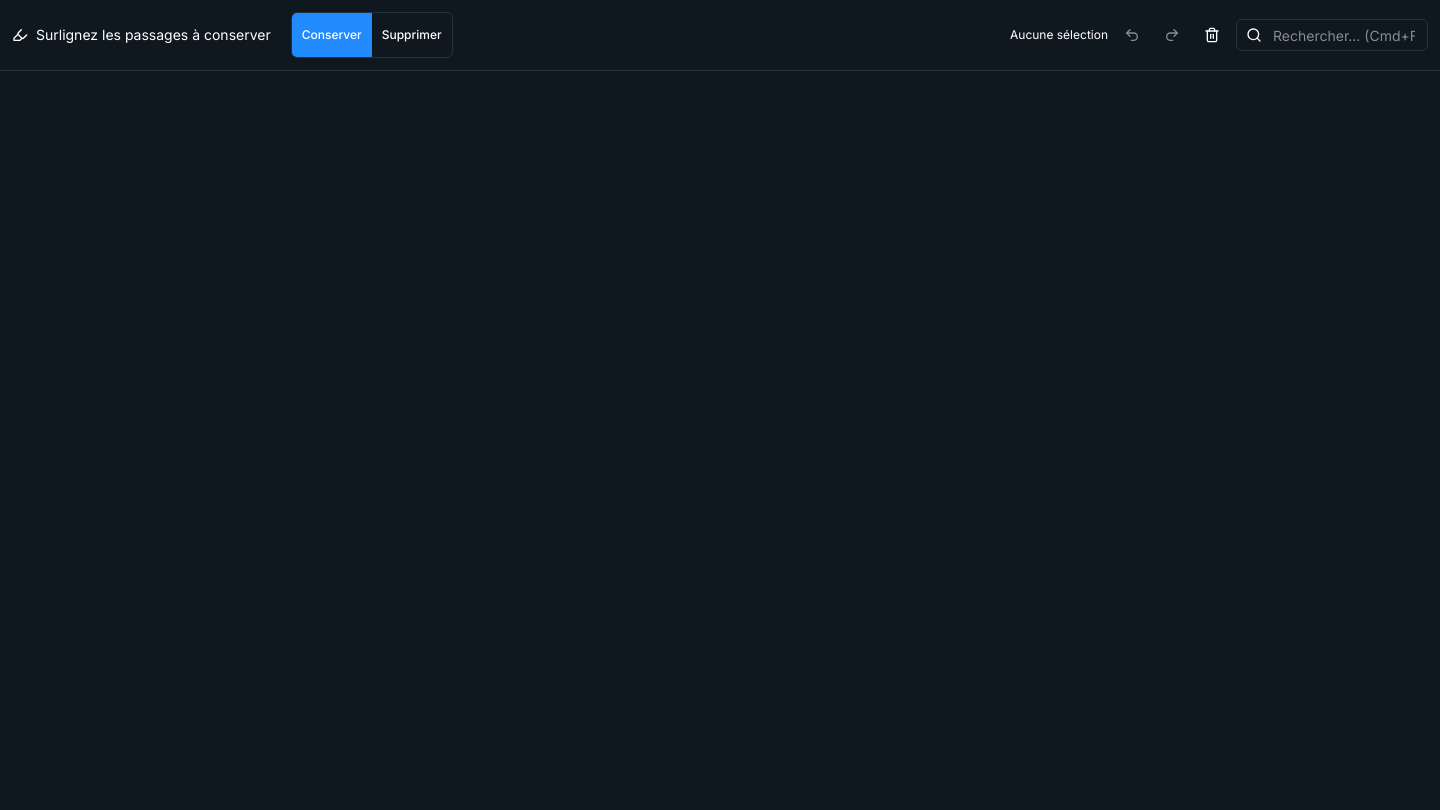
TranscriptViewerToolbar › should open confirmation dialog when clicking clear all
Click the button titled "Effacer toutes les sélections": (1212, 35) x1=1196 y1=13 x2=1228 y2=57
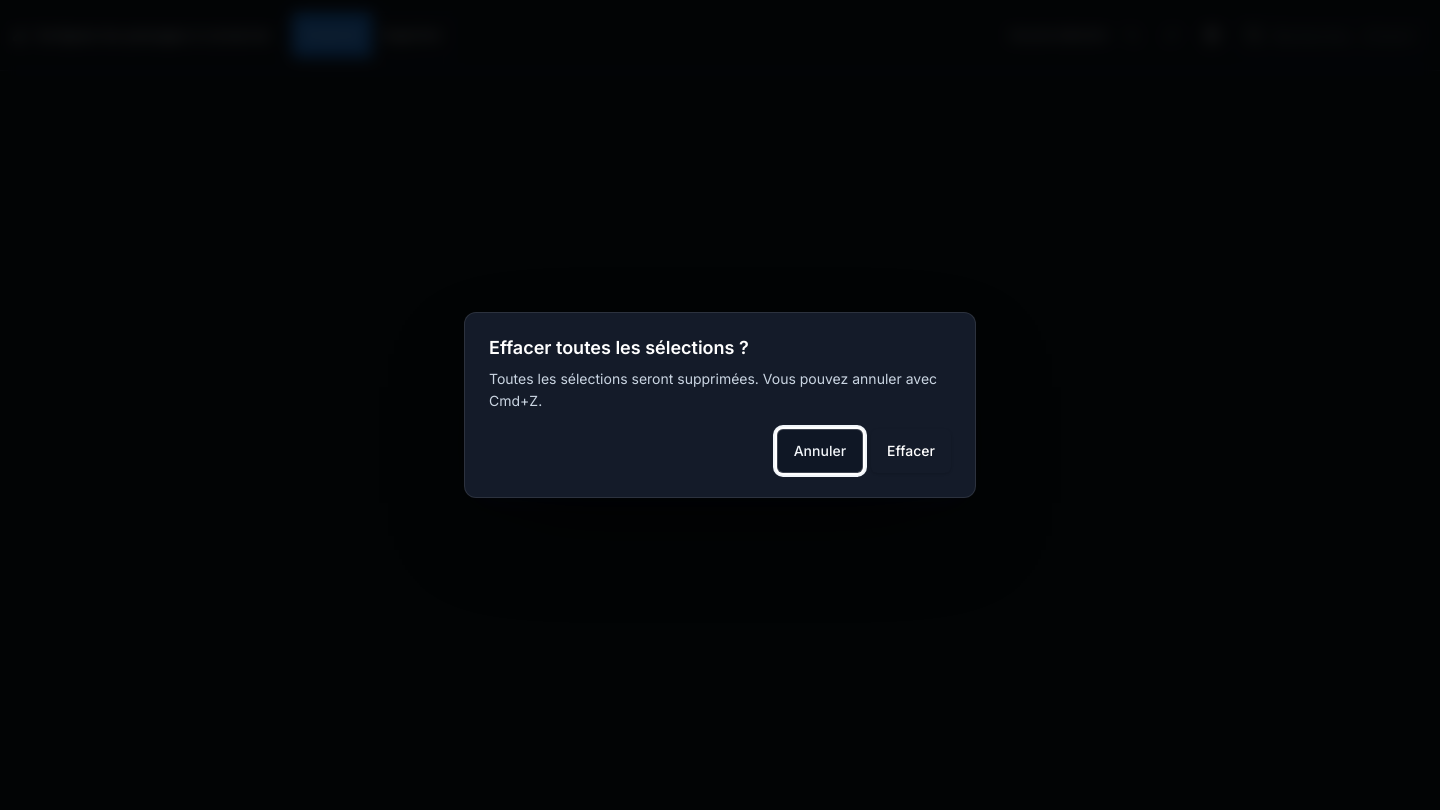
Expected: the heading "Effacer toutes les sélections ?" is shown, x1=489 y1=337 x2=749 y2=358
